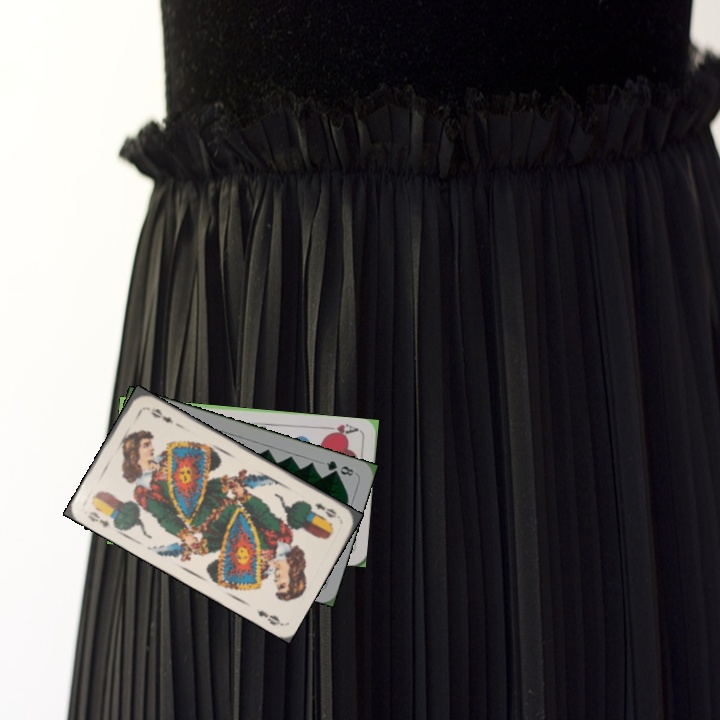EO: (83, 507, 114, 531), (311, 499, 339, 521)
G8: (322, 456, 356, 478)
HA: (321, 420, 361, 440)
